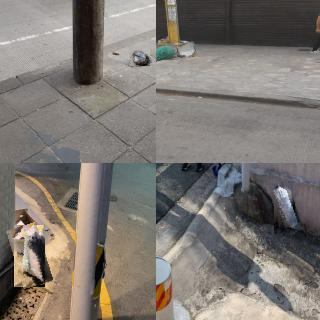Garbage: (10, 224, 49, 289), (271, 180, 299, 235), (129, 46, 151, 67), (156, 44, 177, 61), (177, 42, 196, 58), (157, 37, 169, 48)
